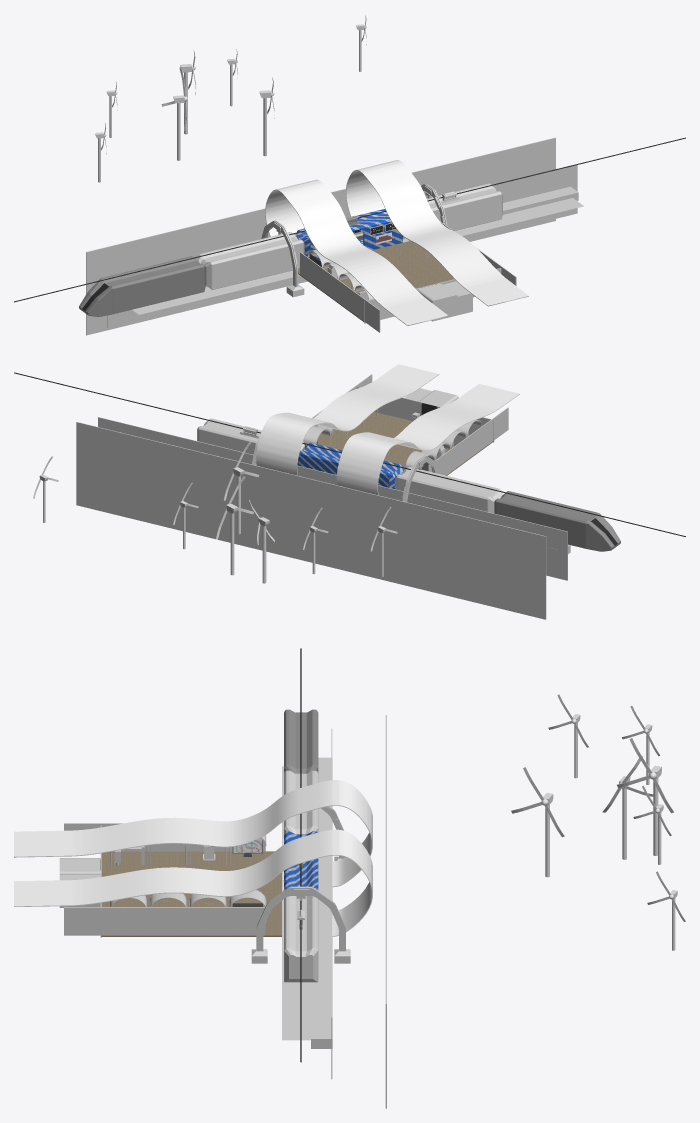
The model's file is TrainStationBlockOut4.fbx.
The picture shows the model from 3 angles, top to bottom: view 1: azimuth 30°, elevation 25°; view 2: azimuth 150°, elevation 25°; view 3: azimuth 270°, elevation 25°; orthographic projection. The views are drawn at different scales.
Visible parts, largest first — view 1: Cube.069, Cube.005, Cube.003, Cube.046, Cube.047, Cube.053, Plane, Cube.052, Cube, Cube.055, Cube.034, Cube.059 (+4 smaller); view 2: Cube.069, Cube.005, Cube.003, Cube.047, Cube.046, Cube.053, Cube, Cube.055, Cube.034, Cube.052, Cylinder.003, Cube.004 (+6 smaller); view 3: Cube.005, Cube.003, Cube.054, Cube, Cube.001, Cube.052, Cube.046, Plane, Cube.053, Plane.003, Cube.034, Cube.059 (+6 smaller).
Part boxes in pixels (<box>): Cube.069: <box>86,137,555,335</box>; Cube.005: <box>346,160,528,306</box>; Cube.003: <box>265,179,448,326</box>; Cube.046: <box>79,256,205,316</box>; Cube.047: <box>107,165,577,327</box>; Cube.053: <box>197,232,304,289</box>; Plane: <box>132,198,583,314</box>; Cube.052: <box>407,183,502,240</box>; Cube: <box>298,241,454,321</box>; Cube.055: <box>300,252,380,332</box>; Cube.034: <box>296,209,403,260</box>; Cube.059: <box>417,281,472,321</box>; Cube.069: <box>76,422,546,619</box>; Cube.005: <box>256,364,439,475</box>; Cube.003: <box>336,384,519,495</box>; Cube.047: <box>98,417,567,580</box>; Cube.046: <box>494,491,620,551</box>; Cube.053: <box>395,467,502,513</box>; Cube: <box>304,412,493,475</box>; Cube.055: <box>428,407,508,475</box>; Cube.034: <box>297,442,403,489</box>; Cube.052: <box>197,418,304,454</box>; Cylinder.003: <box>14,372,685,536</box>; Cube.004: <box>357,387,494,442</box>; Cube.005: <box>14,829,372,936</box>; Cube.003: <box>14,780,372,887</box>; Cube.054: <box>64,907,264,935</box>; Cube: <box>101,851,281,936</box>; Cube.001: <box>311,757,332,1048</box>; Cube.052: <box>284,896,318,982</box>; Cube.046: <box>284,709,318,773</box>; Plane: <box>282,766,310,1040</box>; Cube.053: <box>284,770,318,834</box>; Plane.003: <box>256,887,345,951</box>; Cube.034: <box>284,831,318,890</box>; Cube.059: <box>59,858,100,907</box>.
Bounding box in the file's own units: 8484 × 1991 × 5832.
